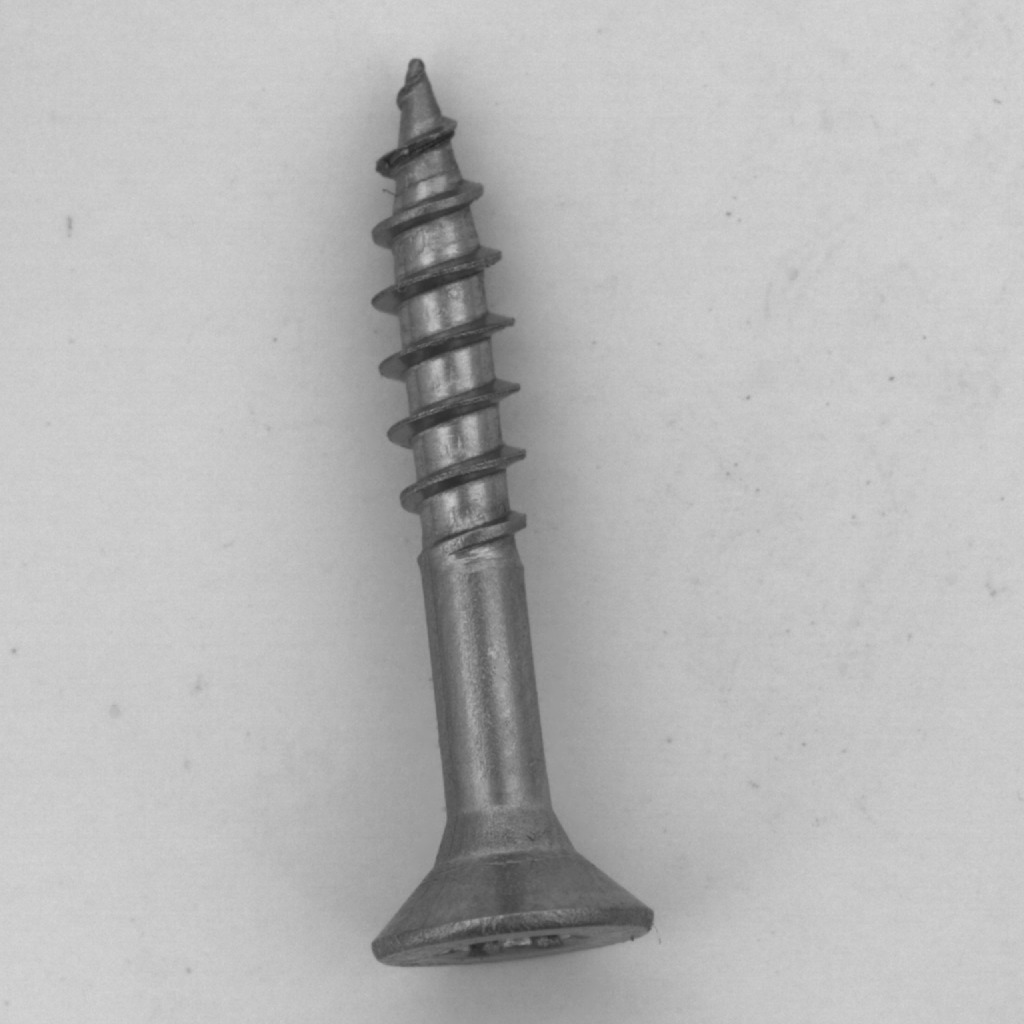good: (345, 34, 671, 981)
